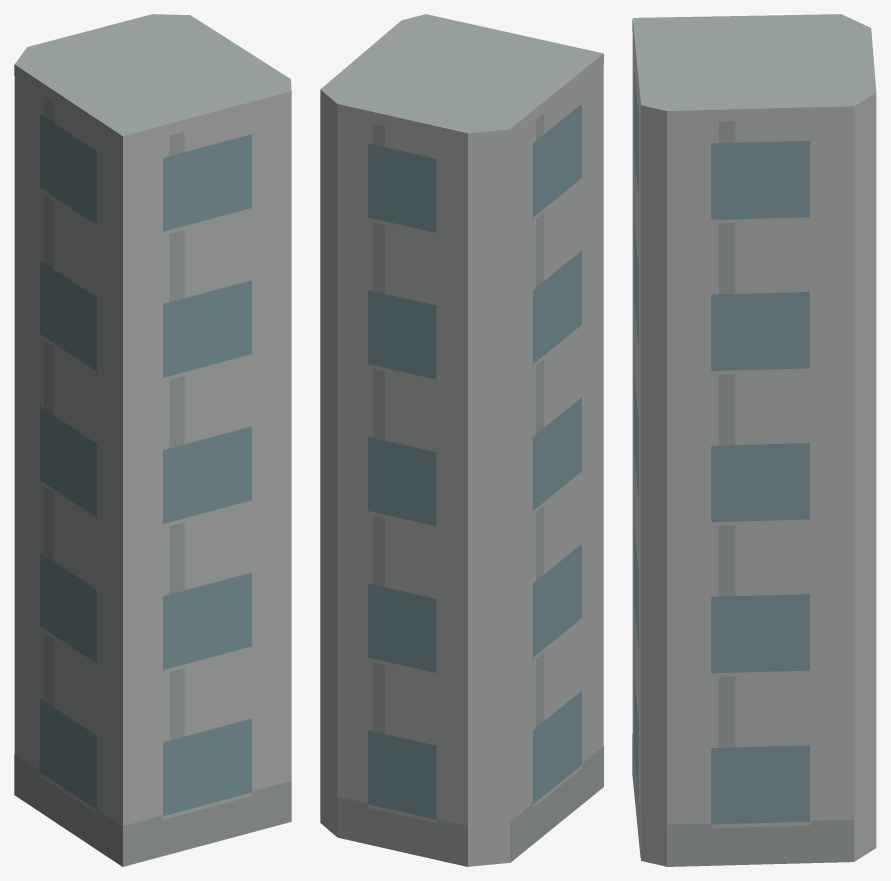
Rendered from survey-upis-32729751.glb.
3 renders of one model, left to right at view 1: azimuth 30°, elevation 25°; view 2: azimuth 150°, elevation 25°; view 3: azimuth 270°, elevation 25°, orthographic. The views are drawn at different scales.
Visible parts, largest first — view 1: survey-upis-32729751.tmp; view 2: survey-upis-32729751.tmp; view 3: survey-upis-32729751.tmp.
Boxes of the visible parts, box(x1,y1,x2,y2) form: survey-upis-32729751.tmp: box(14, 14, 291, 866); survey-upis-32729751.tmp: box(320, 14, 603, 866); survey-upis-32729751.tmp: box(632, 14, 876, 866).
Size of the model in its own units: 4.21 by 15.25 by 4.47.
